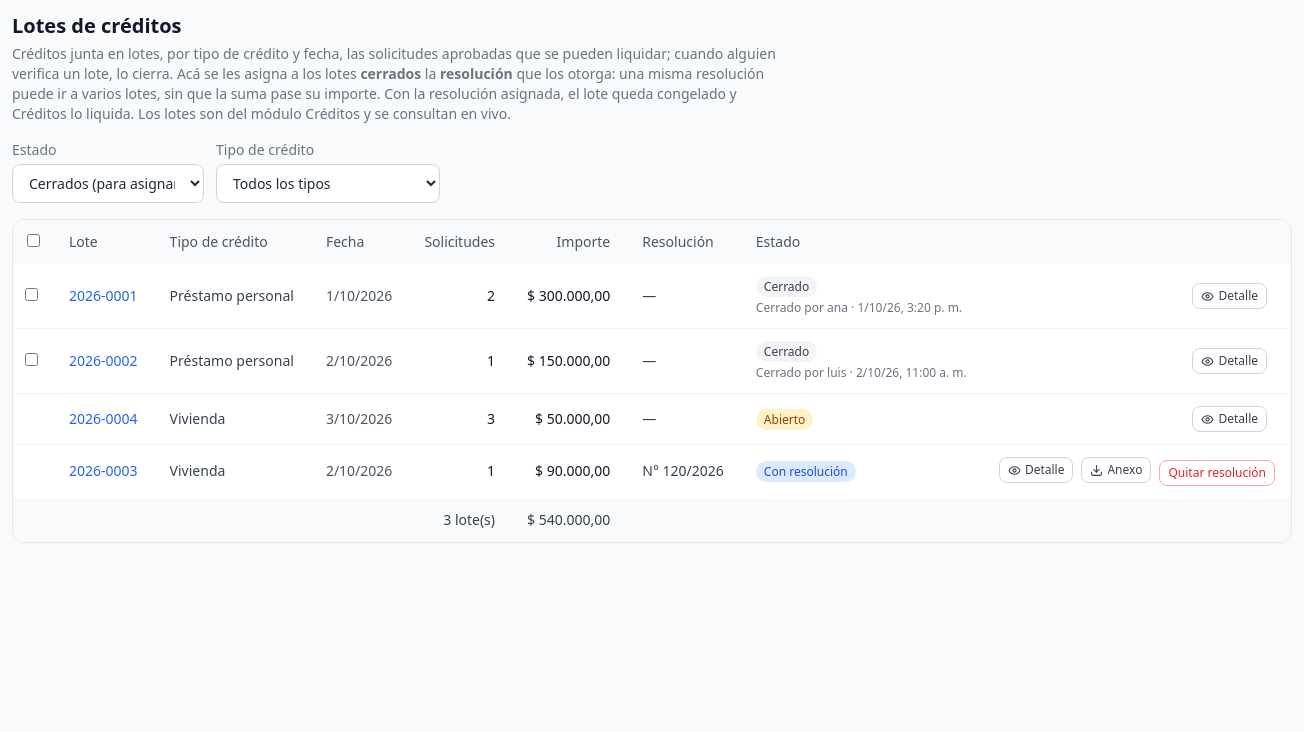
Lotes de créditos (Despacho) › no deja asignar si lo elegido supera lo disponible de la resolución
Click the checkbox named "Elegir 2026-0002" at (32, 360), box [25,353,38,366]
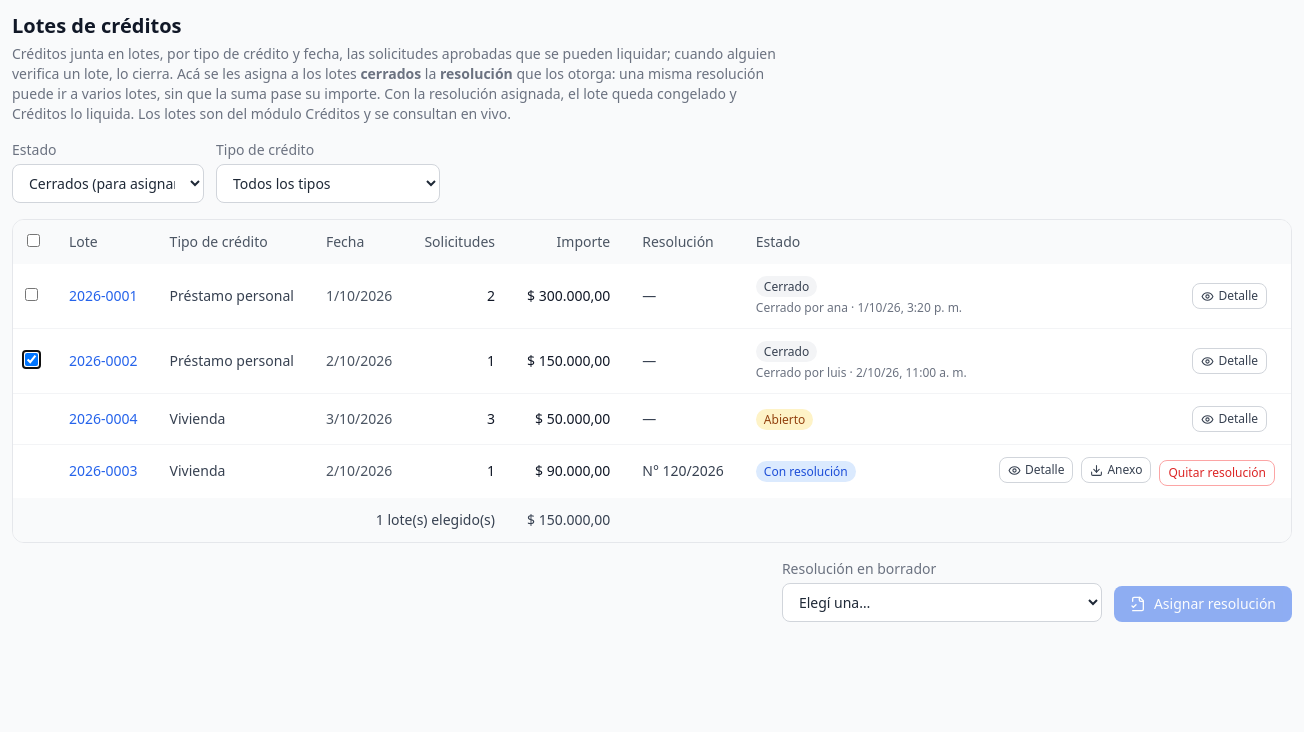
Select "N° 45/2026 · $ 400.000,00 · OTORGAMIENTO" in the dropdown labelled "Resolución en borrador" at (942, 602), box [782,582,1102,622]
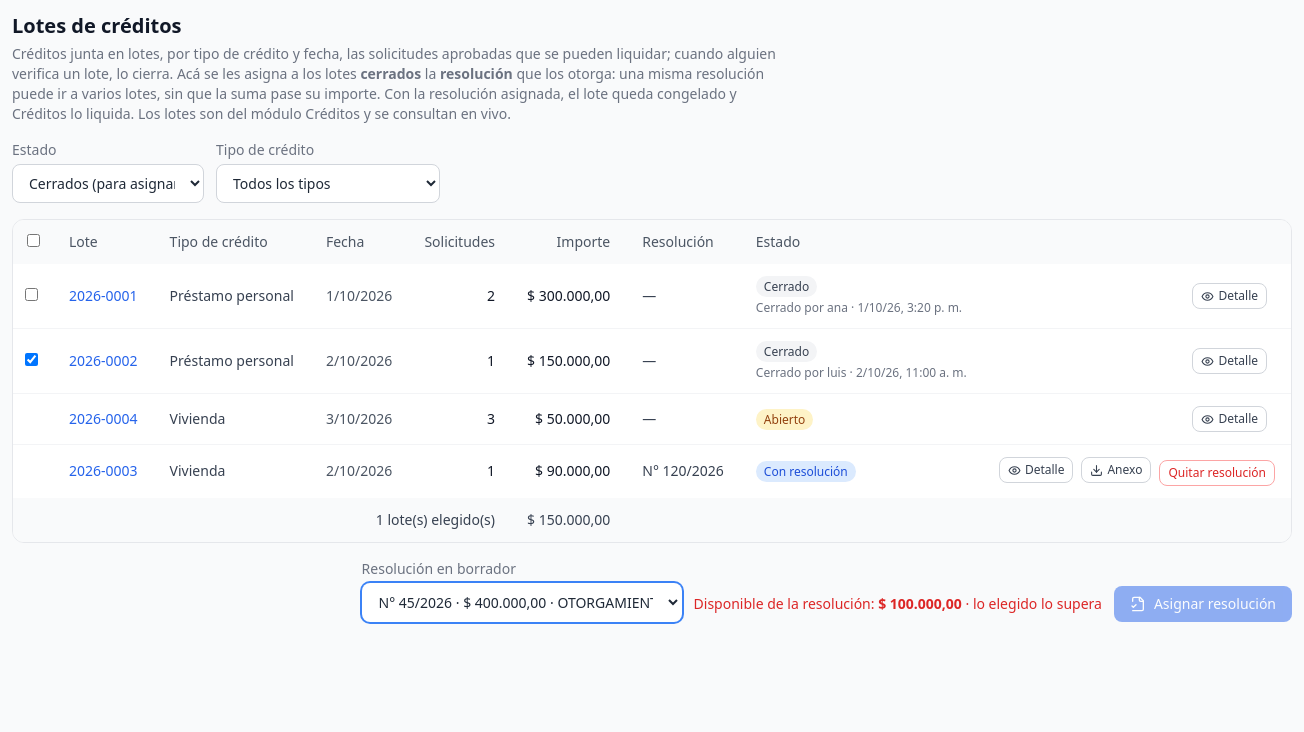
Result: the button "Asignar resolución" is disabled at [1114,586,1292,622]
Result: the text "lo elegido lo supera" is shown at [962,594,1102,612]
